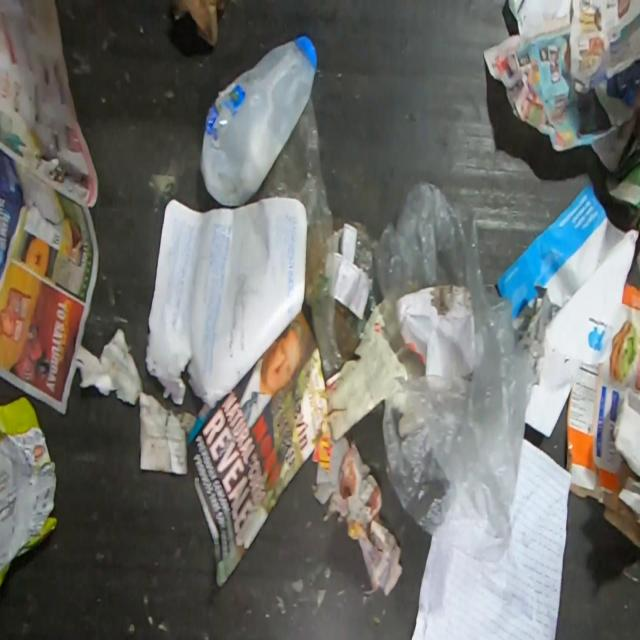cardboard: (566, 281, 640, 511)
rigid_plastic: (199, 33, 318, 207)
soft_plastic: (375, 182, 539, 563), (261, 95, 345, 380), (0, 396, 58, 588)
